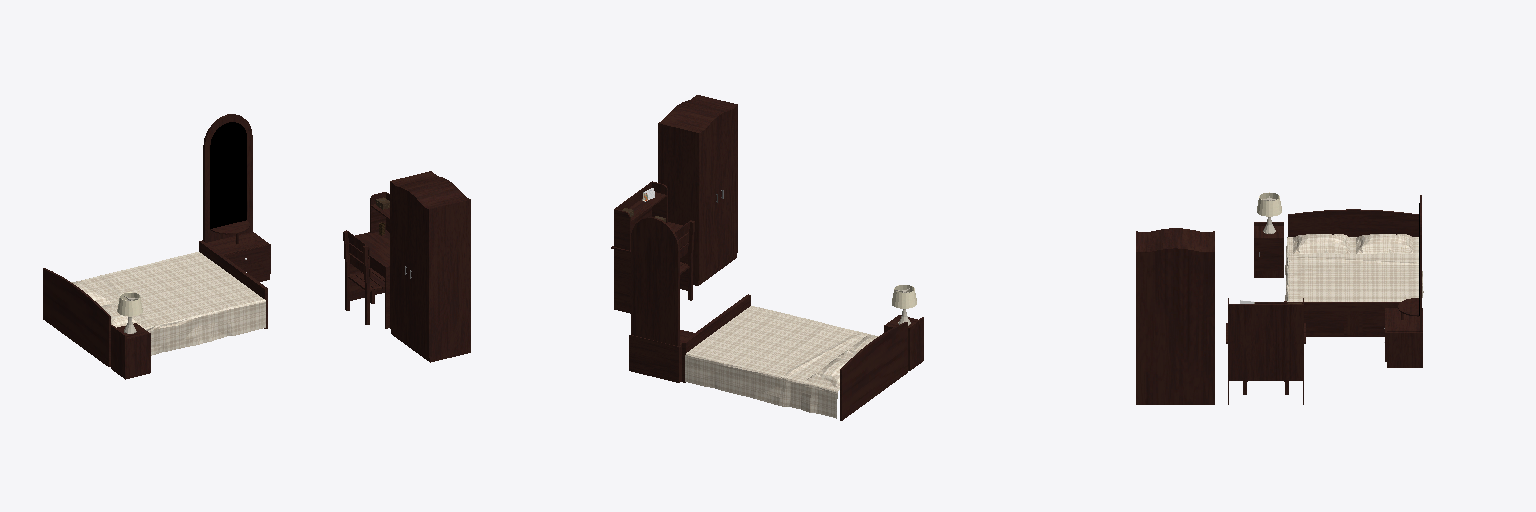
The picture shows the model from 3 angles: view 1: azimuth 30°, elevation 25°; view 2: azimuth 150°, elevation 25°; view 3: azimuth 270°, elevation 25°; orthographic projection.
Visible parts, largest first — view 1: Almirah_low, Chador_low, HeadsAndTails_low, Mirror_low, ReadingTable_low, MirrorBody_low, box_low, DTBody_low, RTChair_low, TableLamp_low; view 2: Chador_low, Almirah_low, MirrorBody_low, HeadsAndTails_low, ReadingTable_low, DTBody_low, box_low, RTChair_low, TableLamp_low, Balish02_low; view 3: Almirah_low, Chador_low, HeadsAndTails_low, ReadingTable_low, DTBody_low, box_low, Balish02_low, Balish01_low, TableLamp_low.
Boxes of the visible parts, x1=… form: Almirah_low: x1=390, y1=171, x2=470, y2=362; Chador_low: x1=76, y1=252, x2=265, y2=355; HeadsAndTails_low: x1=43, y1=240, x2=267, y2=366; Mirror_low: x1=210, y1=122, x2=246, y2=228; ReadingTable_low: x1=349, y1=192, x2=389, y2=328; MirrorBody_low: x1=203, y1=114, x2=252, y2=242; box_low: x1=111, y1=323, x2=150, y2=379; DTBody_low: x1=207, y1=232, x2=270, y2=281; RTChair_low: x1=343, y1=230, x2=384, y2=324; TableLamp_low: x1=117, y1=292, x2=142, y2=333; Chador_low: x1=685, y1=306, x2=878, y2=418; Almirah_low: x1=658, y1=95, x2=737, y2=285; MirrorBody_low: x1=631, y1=217, x2=679, y2=345; HeadsAndTails_low: x1=682, y1=294, x2=907, y2=420; ReadingTable_low: x1=611, y1=181, x2=688, y2=313; DTBody_low: x1=629, y1=330, x2=693, y2=382; box_low: x1=884, y1=315, x2=923, y2=370; RTChair_low: x1=675, y1=220, x2=694, y2=300; TableLamp_low: x1=892, y1=285, x2=916, y2=325; Balish02_low: x1=807, y1=358, x2=848, y2=387; Almirah_low: x1=1136, y1=228, x2=1214, y2=404; Chador_low: x1=1285, y1=237, x2=1423, y2=301; HeadsAndTails_low: x1=1288, y1=209, x2=1418, y2=336; ReadingTable_low: x1=1226, y1=298, x2=1305, y2=404; DTBody_low: x1=1385, y1=308, x2=1422, y2=367; box_low: x1=1254, y1=222, x2=1283, y2=277; Balish02_low: x1=1356, y1=234, x2=1413, y2=253; Balish01_low: x1=1293, y1=234, x2=1350, y2=253; TableLamp_low: x1=1257, y1=192, x2=1281, y2=233.
Size of the model in its own units: 3.45 by 1.82 by 2.99.
2 materials, 1 textured.